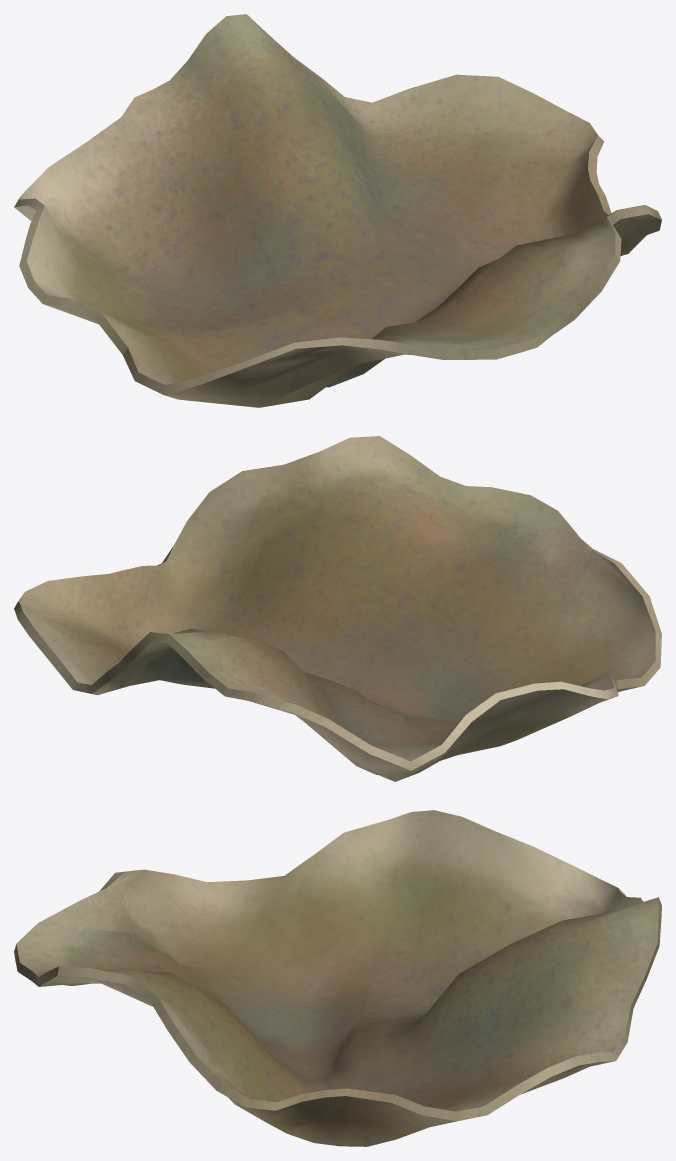
File: plant_09.fbx
The picture shows the model from 3 angles, top to bottom: view 1: azimuth 30°, elevation 25°; view 2: azimuth 150°, elevation 25°; view 3: azimuth 270°, elevation 25°; orthographic projection. The views are drawn at different scales.
Visible parts, largest first — view 1: pCube1; view 2: pCube1; view 3: pCube1.
Part boxes in pixels (<box>): pCube1: <box>14,14,661,407</box>; pCube1: <box>14,436,661,781</box>; pCube1: <box>14,810,661,1146</box>.
Size of the model in its own units: 30.94 by 10.29 by 29.81.
